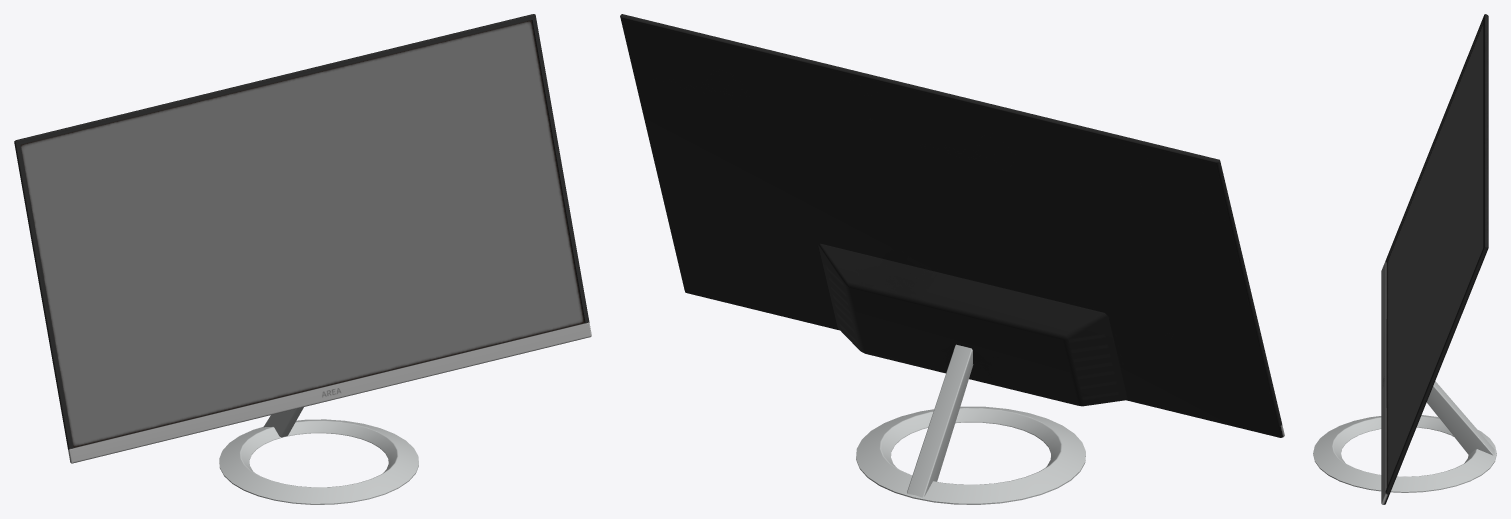
The model's file is Monitor_27.FBX.
The picture shows the model from 3 angles, left to right: view 1: azimuth 30°, elevation 25°; view 2: azimuth 150°, elevation 25°; view 3: azimuth 270°, elevation 25°; orthographic projection. The views are drawn at different scales.
Parts seen in each view (by area): view 1: Monitor_27; view 2: Monitor_27; view 3: Monitor_27.
Part boxes in pixels (x1=…): Monitor_27: x1=14, y1=14, x2=591, y2=504; Monitor_27: x1=620, y1=14, x2=1284, y2=504; Monitor_27: x1=1313, y1=14, x2=1496, y2=504.
Size of the model in its own units: 60 by 38.9 by 20.
